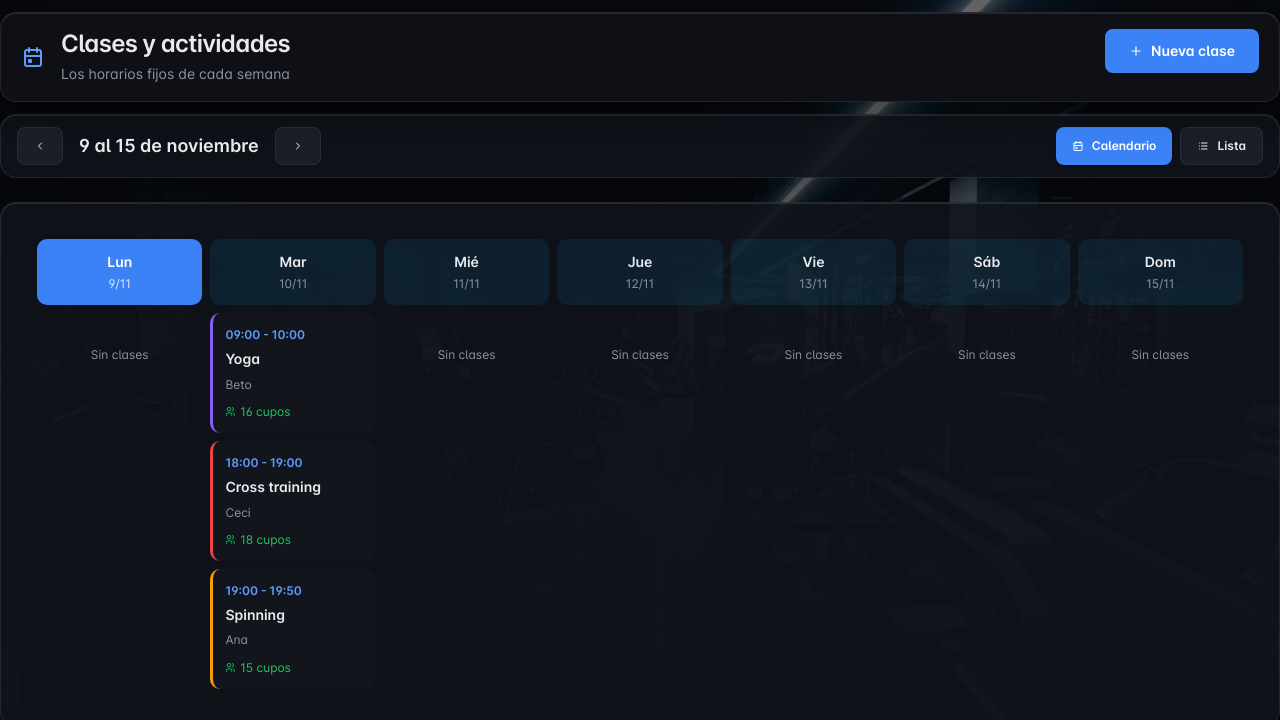
Scenario: Clases › "Eliminar" dice qué clase se borra y que las de otros días quedan
Click the button "Lista" at (1222, 146), box [1180,127,1263,165]
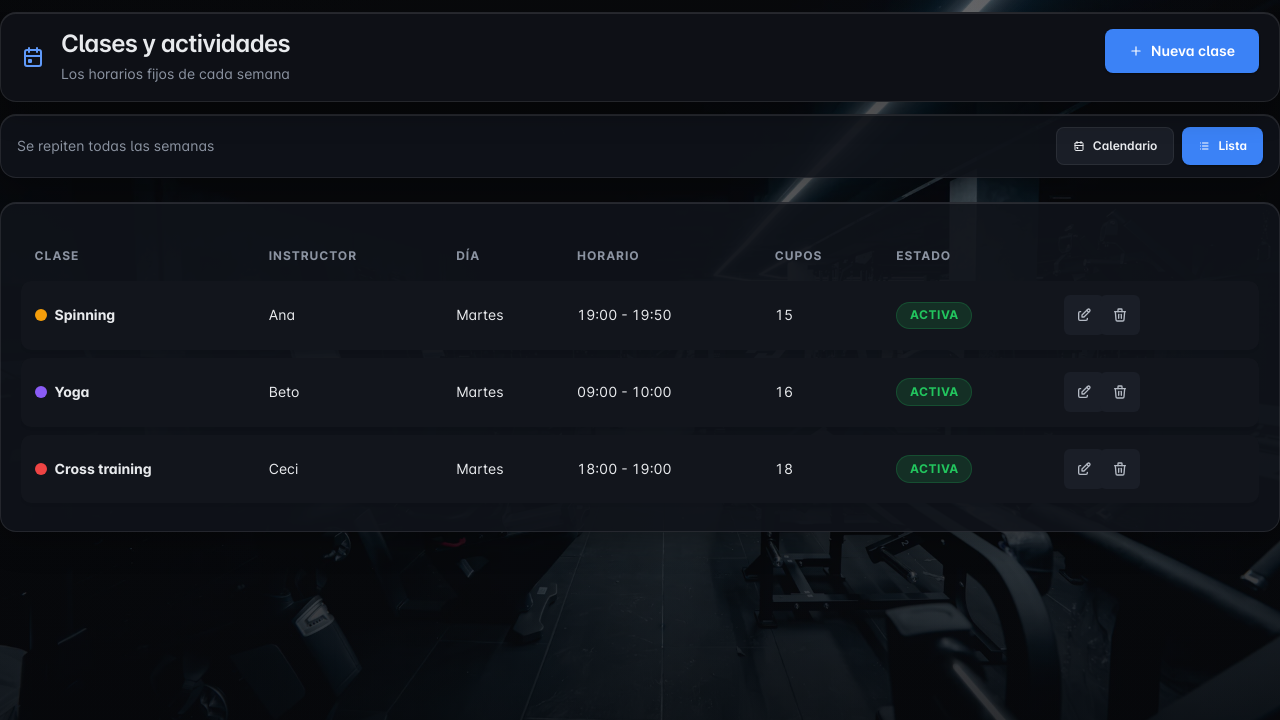
Click the button named "Eliminar Spinning" at (1120, 315), box [1100,295,1140,335]
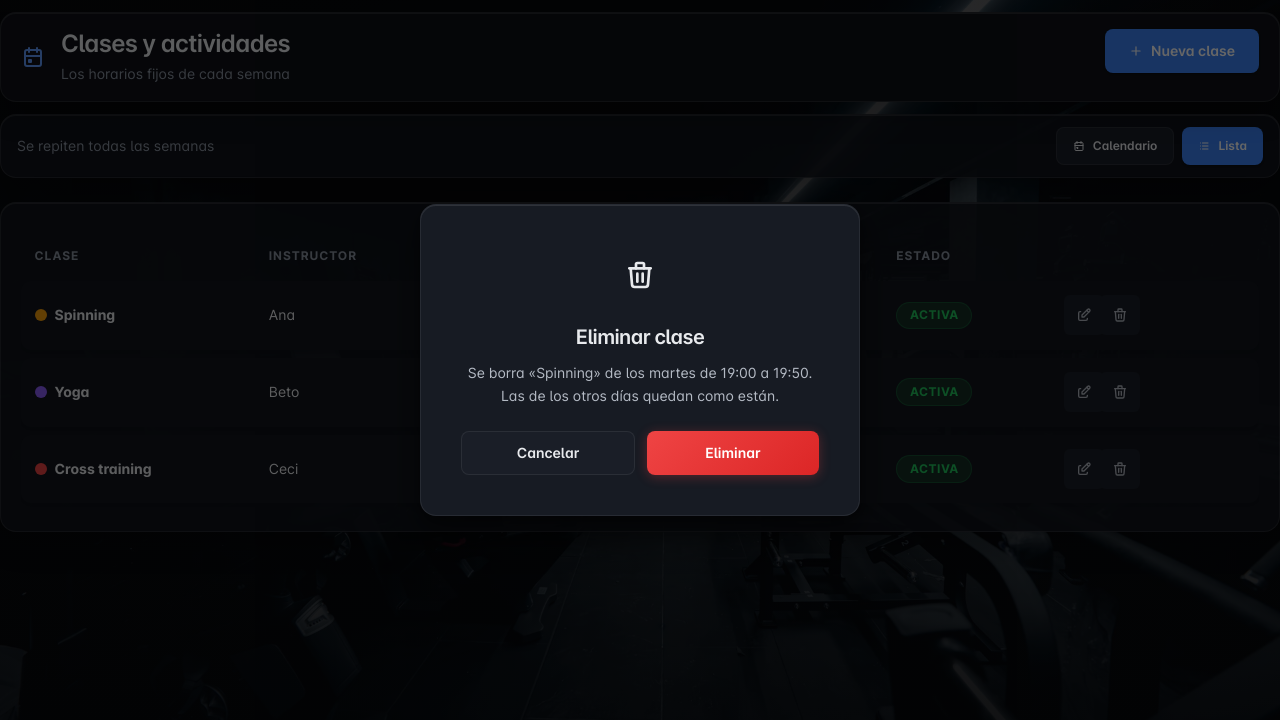
Expected: the text "Se borra «Spinning» de los martes de 19:00 a 19:50. Las de los otros días quedan como están." is shown, [468,364,812,404]
